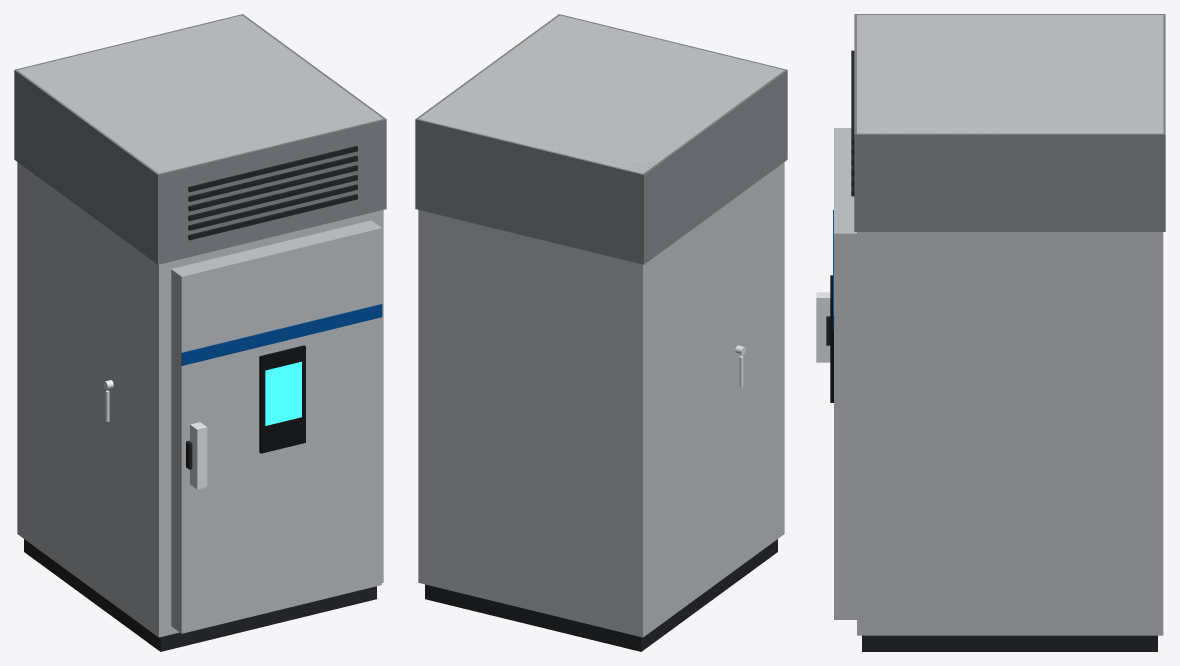
File: blastfreezer.glb
3 renders of one model, left to right at view 1: azimuth 30°, elevation 25°; view 2: azimuth 150°, elevation 25°; view 3: azimuth 270°, elevation 25°, orthographic. The views are drawn at different scales.
Visible parts, largest first — view 1: BlastFreezer_Irinox_MultiFresh; view 2: BlastFreezer_Irinox_MultiFresh; view 3: BlastFreezer_Irinox_MultiFresh.
Part boxes in pixels (left/top/right/bottom): BlastFreezer_Irinox_MultiFresh: left=14, top=14, right=386, bottom=651; BlastFreezer_Irinox_MultiFresh: left=415, top=14, right=787, bottom=651; BlastFreezer_Irinox_MultiFresh: left=816, top=14, right=1165, bottom=651.
Size of the model in its own units: 1.14 by 2.25 by 1.37.
